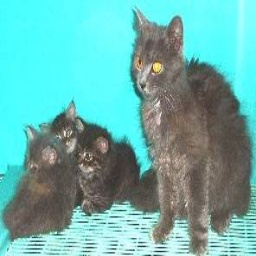cat: (16, 10, 256, 256)
